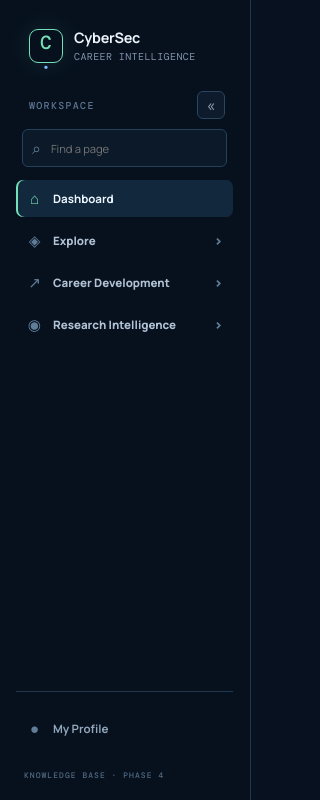
Test: grouped sidebar navigation › expands and collapses groups independently
This screenshot has width=320, height=800.
Click the button "◈ Explore ›".
click(124, 240)  # box [16,222,233,259]
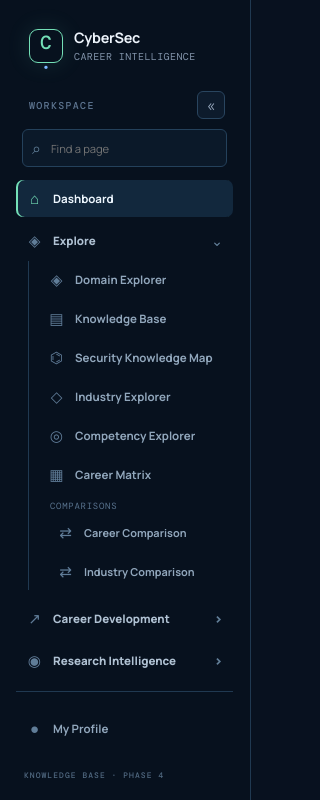
Now the button "◈ Domain Explorer" is shown, box [38,261,233,298]
Click the button "↗ Career Development ›".
click(124, 618)  # box [16,600,233,637]
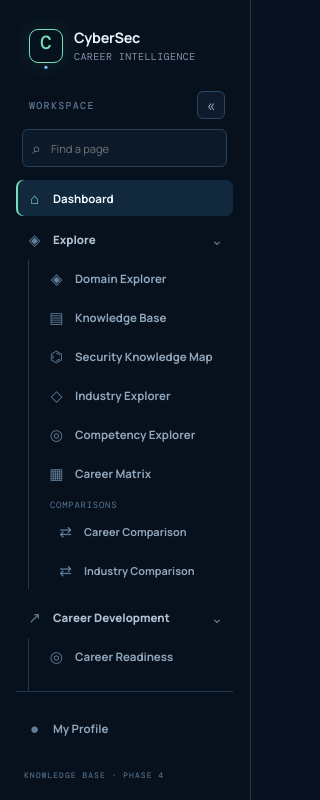
Now the button "◎ Career Readiness" is shown, box [38,638,233,675]
Click the button "◈ Explore ⌄".
click(124, 240)  # box [16,221,233,258]
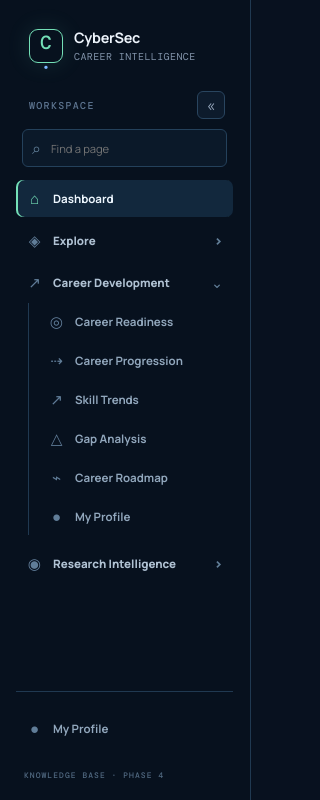
Now the button "◎ Career Readiness" is shown, box [38,303,233,340]
Now the button "Domain Explorer" is gone
